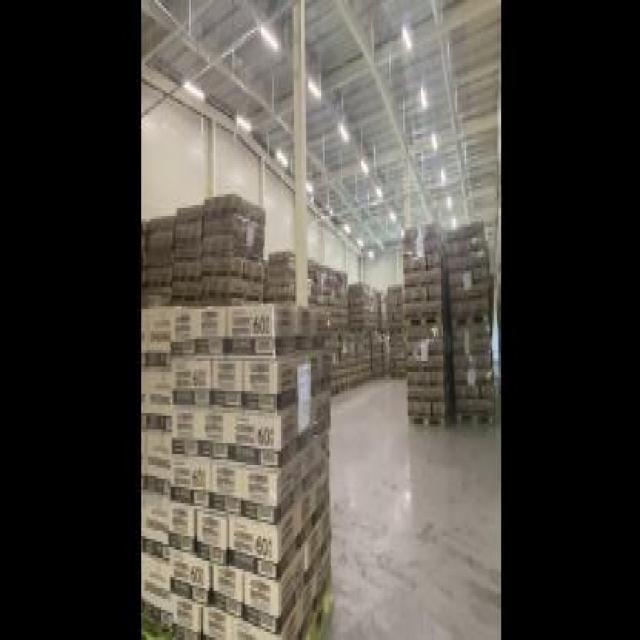box: (143, 309, 335, 637), (272, 249, 383, 410), (143, 197, 260, 306), (400, 208, 448, 432), (448, 216, 495, 432), (382, 271, 406, 380)
